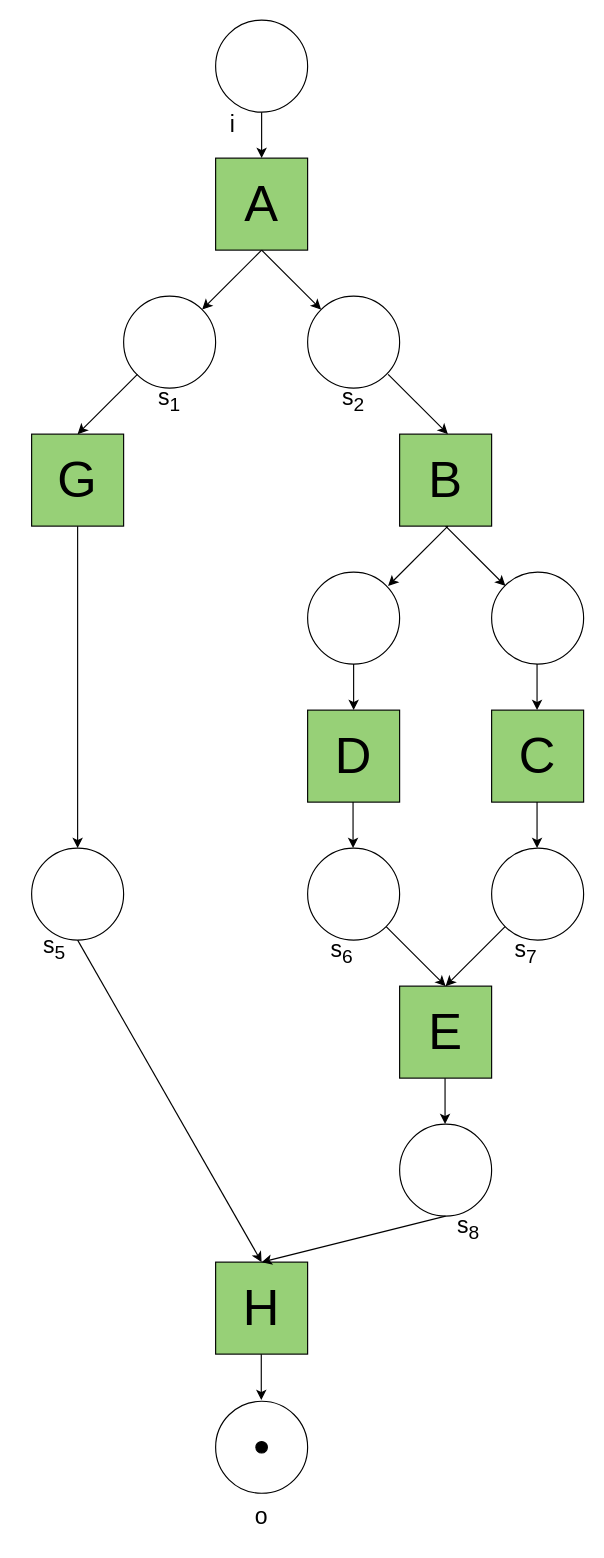
Image size: 604x1558. Some labels were removed from this diagram. Here are the shapes that lost their labels. From the top down, the centre of each, then its label:
At pixel 353 617: "s 3".
At pixel 537 617: "s 4".
